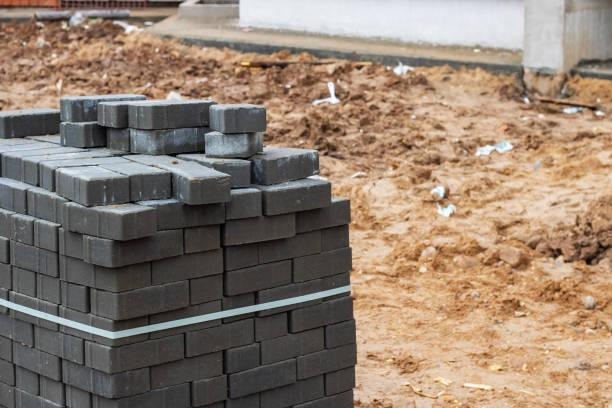Bricks: (127, 149, 228, 203), (57, 252, 153, 295), (86, 331, 189, 370), (60, 306, 151, 350), (257, 273, 352, 315), (58, 201, 155, 242), (92, 280, 189, 318), (62, 361, 158, 398), (85, 232, 185, 267), (147, 297, 226, 337), (182, 321, 257, 362), (98, 159, 169, 202), (53, 170, 134, 207), (230, 359, 299, 399), (155, 352, 226, 390), (149, 251, 224, 286), (261, 187, 333, 223), (286, 297, 352, 335), (147, 194, 223, 226), (258, 153, 320, 191), (260, 331, 321, 369), (296, 343, 356, 380), (261, 375, 329, 407), (34, 323, 87, 364), (291, 246, 353, 281), (127, 100, 207, 126), (224, 260, 290, 291), (97, 385, 190, 407), (222, 216, 294, 244), (10, 240, 62, 278), (288, 202, 350, 233), (13, 291, 59, 330), (131, 131, 205, 155), (1, 109, 60, 139), (261, 231, 322, 259), (10, 342, 60, 375), (28, 148, 117, 164), (193, 372, 233, 406), (43, 155, 120, 172), (27, 188, 61, 223), (0, 212, 34, 247), (4, 142, 74, 159), (59, 164, 117, 184), (0, 314, 33, 348), (207, 133, 253, 157), (186, 228, 225, 256), (190, 276, 229, 304), (213, 161, 251, 187), (224, 293, 256, 322), (229, 347, 263, 374), (6, 267, 36, 297), (256, 314, 286, 344), (324, 322, 356, 350), (227, 188, 260, 215), (59, 283, 89, 312), (318, 223, 350, 250), (324, 367, 356, 393), (13, 368, 42, 396), (229, 112, 264, 135), (225, 247, 257, 272), (34, 220, 58, 252), (64, 97, 92, 124), (33, 275, 61, 301), (62, 123, 93, 145), (65, 386, 97, 407), (39, 377, 63, 404), (205, 105, 228, 133), (96, 104, 119, 130), (58, 232, 83, 253), (108, 127, 129, 151), (39, 163, 58, 189), (2, 156, 22, 179), (0, 335, 14, 364), (0, 359, 14, 387), (24, 159, 38, 186), (0, 262, 8, 290), (0, 241, 8, 268)
